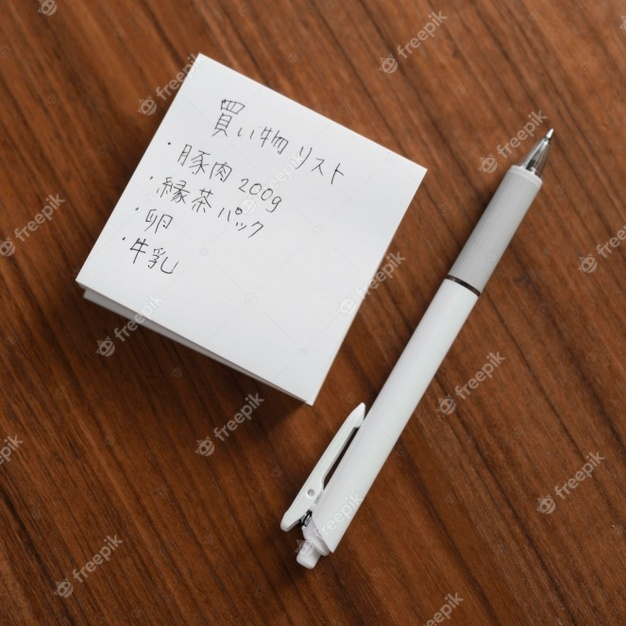Note: (78, 57, 427, 400)
